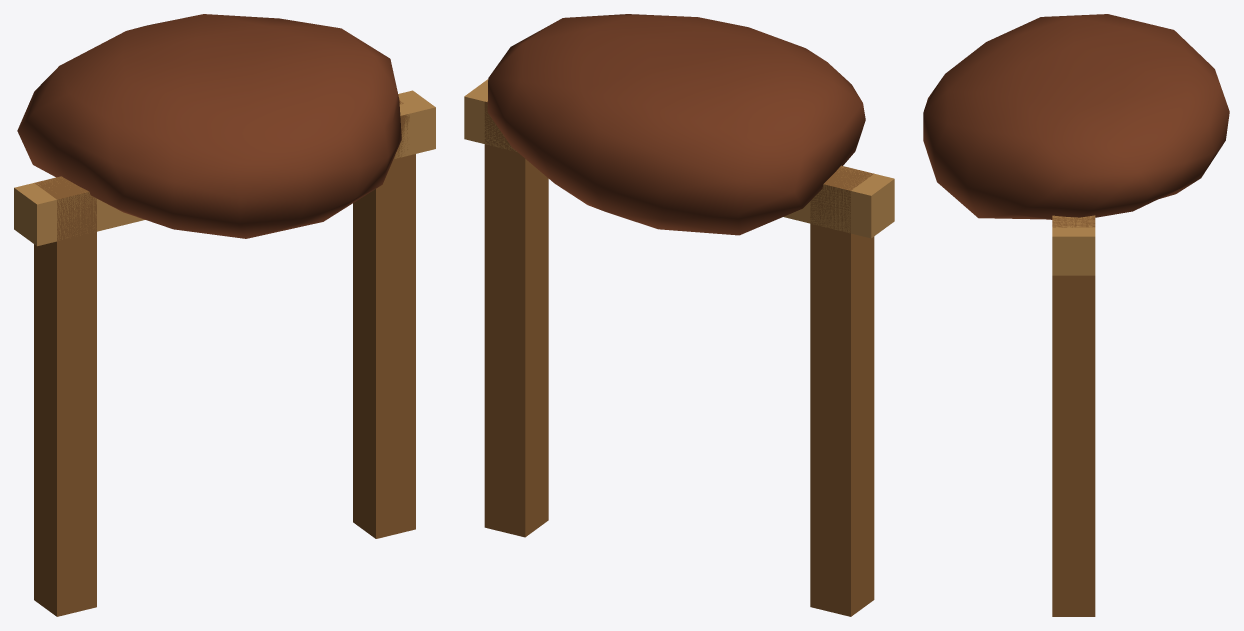
Rendered from saddle_rack.glb.
3 views of the same model, side by side, from view 1: azimuth 30°, elevation 25°; view 2: azimuth 150°, elevation 25°; view 3: azimuth 270°, elevation 25° (orthographic). The views are drawn at different scales.
Visible parts, largest first — view 1: decor-saddle_rack; view 2: decor-saddle_rack; view 3: decor-saddle_rack.
Boxes of the visible parts, <box> form: decor-saddle_rack: <box>14,14,435,616</box>; decor-saddle_rack: <box>464,14,894,616</box>; decor-saddle_rack: <box>923,14,1229,616</box>.
Bounding box in the file's own units: 1 × 1.22 × 0.7136.
